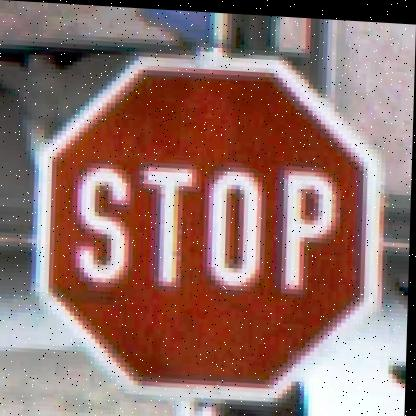Stop Sign: (30, 32, 392, 411)
